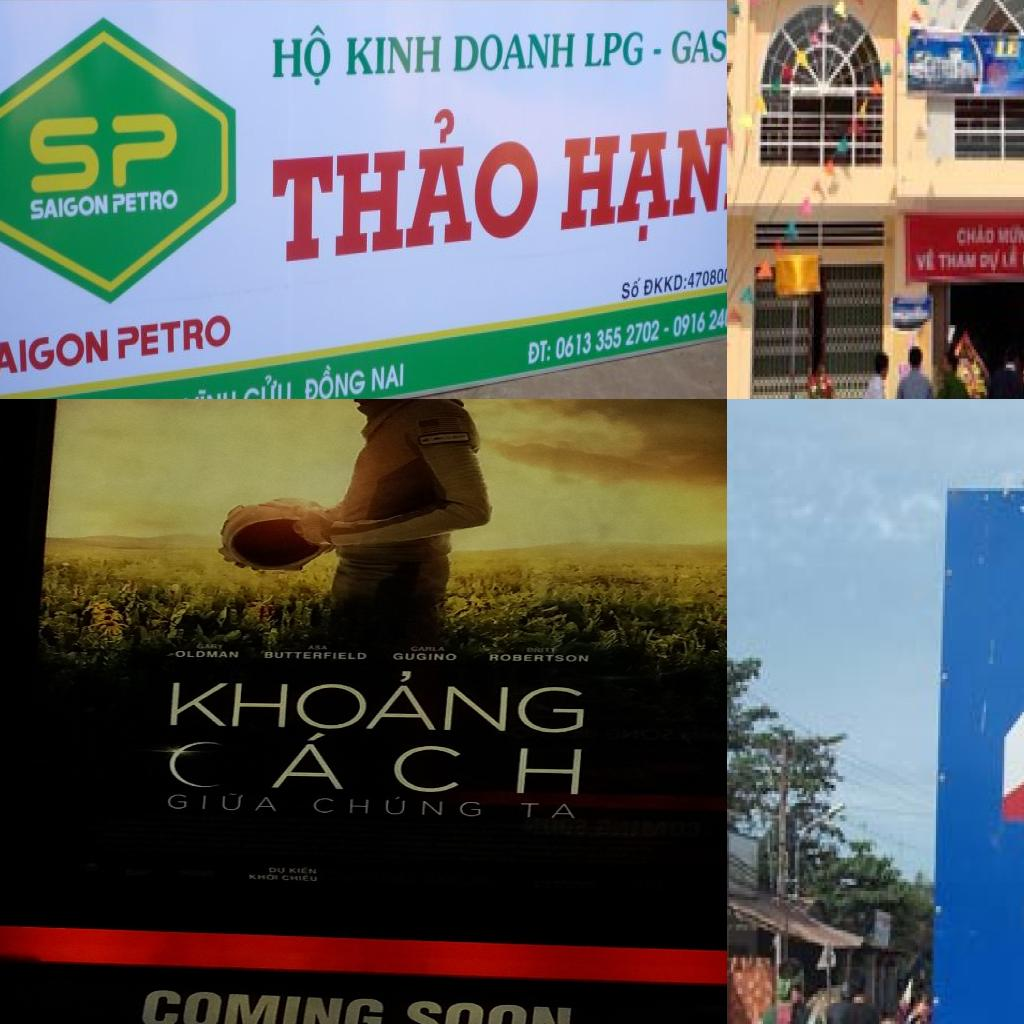text: (269, 97, 544, 270), (164, 665, 594, 737), (160, 730, 592, 798), (557, 118, 727, 259), (28, 110, 181, 198), (136, 984, 389, 1024), (116, 310, 233, 364), (0, 326, 111, 382), (390, 995, 584, 1024), (451, 30, 578, 74), (554, 316, 662, 364), (310, 796, 486, 822), (344, 33, 444, 78), (270, 20, 335, 89), (160, 790, 286, 814), (28, 190, 111, 224), (303, 356, 368, 399), (583, 29, 646, 72), (669, 27, 727, 69), (672, 299, 727, 341), (111, 188, 181, 218), (242, 369, 299, 399), (641, 272, 688, 300), (686, 261, 727, 293), (262, 650, 371, 662), (370, 360, 406, 394), (486, 653, 592, 664), (936, 249, 980, 273), (955, 224, 997, 249), (526, 334, 554, 368), (180, 384, 239, 399), (993, 38, 1023, 63), (170, 649, 243, 659), (620, 274, 644, 304), (914, 246, 938, 276), (978, 249, 1004, 276), (997, 224, 1024, 248), (389, 653, 459, 662), (280, 874, 322, 882), (407, 644, 448, 652), (525, 646, 560, 654), (246, 873, 281, 881), (290, 867, 322, 875), (195, 642, 226, 649), (305, 643, 332, 651), (266, 866, 288, 874)
